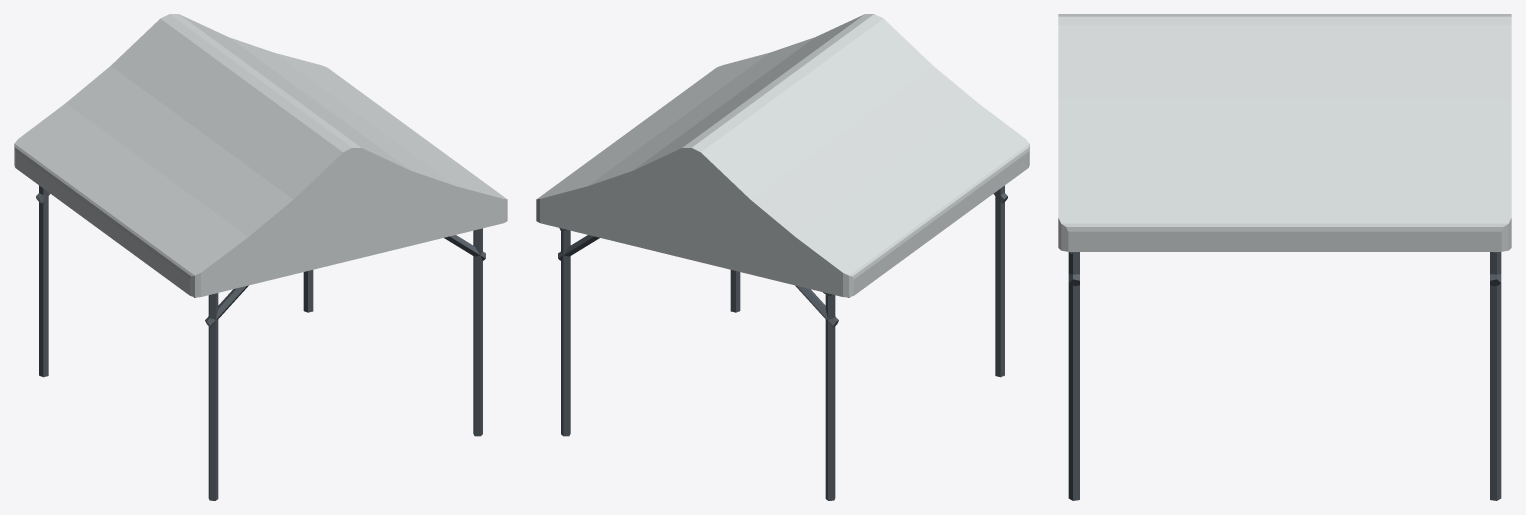
Rendered from rowtent.fbx.
The picture shows the model from 3 angles, left to right: view 1: azimuth 30°, elevation 25°; view 2: azimuth 150°, elevation 25°; view 3: azimuth 270°, elevation 25°; orthographic projection. The views are drawn at different scales.
Visible parts, largest first — view 1: 立方体, 円柱, 円柱.003; view 2: 立方体, 円柱, 円柱.003; view 3: 立方体, 円柱.
Part boxes in pixels (<box>): 立方体: <box>14,14,507,297</box>; 円柱: <box>39,185,482,500</box>; 円柱.003: <box>36,192,485,327</box>; 立方体: <box>536,14,1029,297</box>; 円柱: <box>561,185,1004,500</box>; 円柱.003: <box>558,192,1007,327</box>; 立方体: <box>1058,14,1511,251</box>; 円柱: <box>1068,252,1501,500</box>.
Size of the model in its own units: 200 by 195 by 200.
